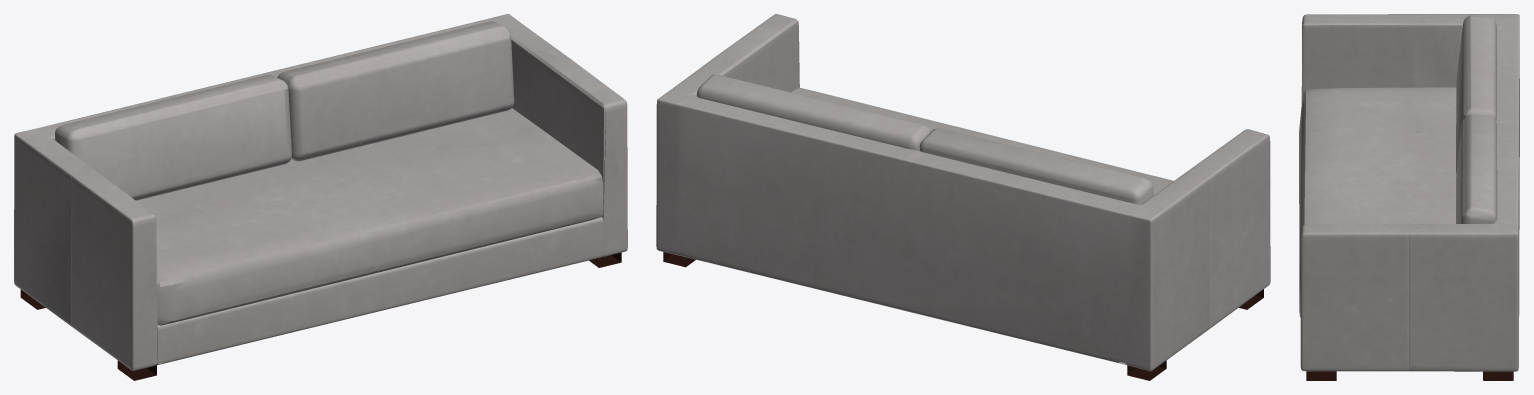
3 renders of one model, left to right at view 1: azimuth 30°, elevation 25°; view 2: azimuth 150°, elevation 25°; view 3: azimuth 270°, elevation 25°, orthographic. The views are drawn at different scales.
Parts seen in each view (by area): view 1: C-skpB486; view 2: C-skpB486; view 3: C-skpB486.
Boxes of the visible parts, left/top/right/bottom form: C-skpB486: left=14, top=14, right=627, bottom=380; C-skpB486: left=656, top=14, right=1270, bottom=380; C-skpB486: left=1299, top=14, right=1519, bottom=380.
Size of the model in its own units: 2.13 by 0.73 by 0.9.
Materials: 3 (2 with a texture image).
